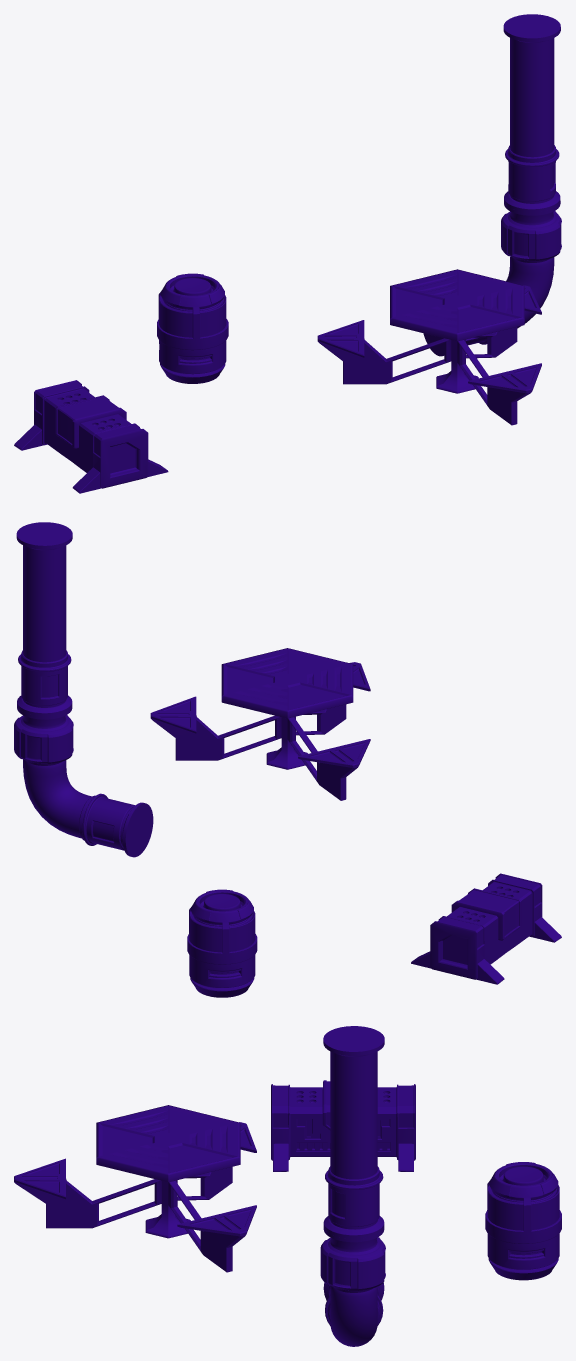
Rendered from mobiliario1.fbx.
The picture shows the model from 3 angles, top to bottom: view 1: azimuth 30°, elevation 25°; view 2: azimuth 150°, elevation 25°; view 3: azimuth 270°, elevation 25°; orthographic projection. The views are drawn at different scales.
Parts seen in each view (by area): view 1: pCylinder5, pCylinder8, polySurface5, pasted__pCylinder1, pCylinder7; view 2: pCylinder5, pCylinder7, pCylinder8, polySurface5, pasted__pCylinder1; view 3: pCylinder5, pCylinder8, pasted__pCylinder1, polySurface5, pCylinder7.
Part boxes in pixels (x1,y1,x2,y2): pCylinder5: (317, 269, 541, 425); pCylinder8: (503, 14, 560, 212); polySurface5: (14, 380, 168, 493); pasted__pCylinder1: (157, 273, 228, 383); pCylinder7: (423, 201, 561, 356); pCylinder5: (150, 648, 370, 800); pCylinder7: (14, 705, 153, 857); pCylinder8: (16, 522, 72, 716); polySurface5: (411, 873, 561, 984); pasted__pCylinder1: (187, 889, 257, 997); pCylinder5: (14, 1105, 256, 1272); pCylinder8: (323, 1026, 384, 1238); pasted__pCylinder1: (485, 1162, 561, 1280); polySurface5: (271, 1080, 415, 1171); pCylinder7: (320, 1226, 385, 1346).
Size of the model in its own units: 21.13 by 13.32 by 18.07.
